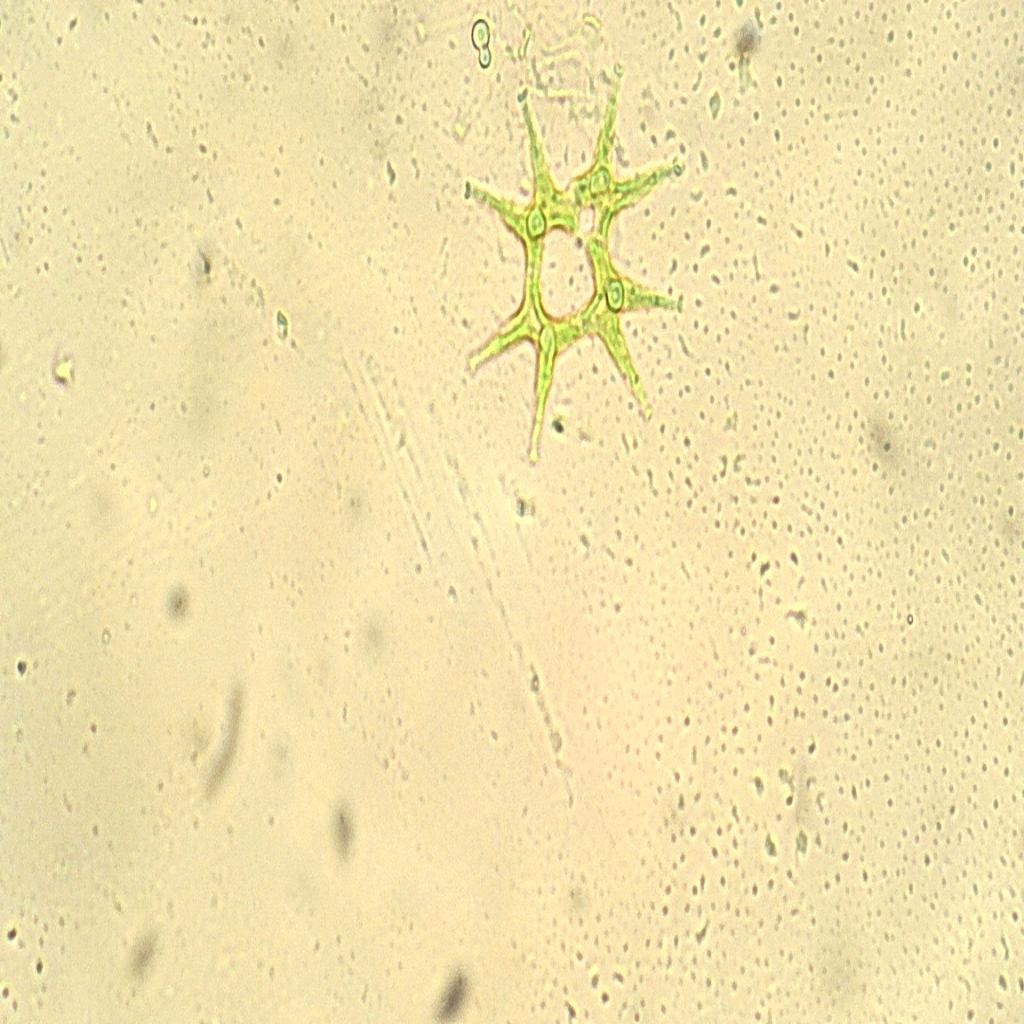Pediastrum_CF: (444, 52, 696, 476)
